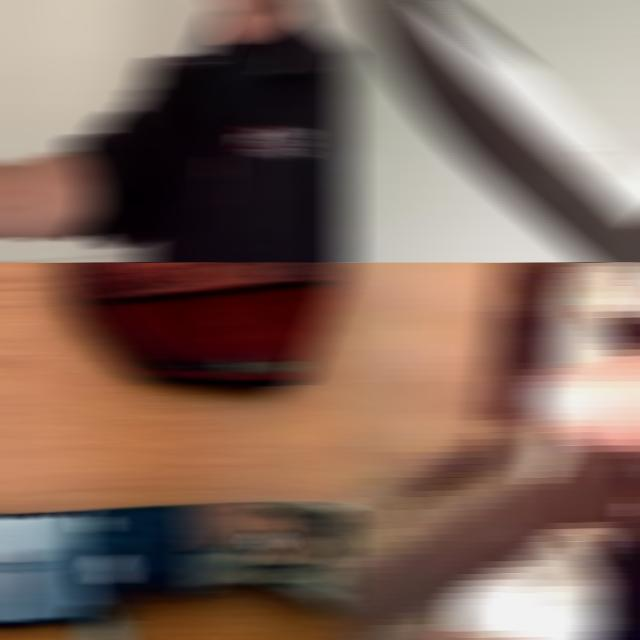Knife: (356, 0, 640, 262)
Knife_Handle: (337, 262, 640, 640), (337, 0, 640, 262)
